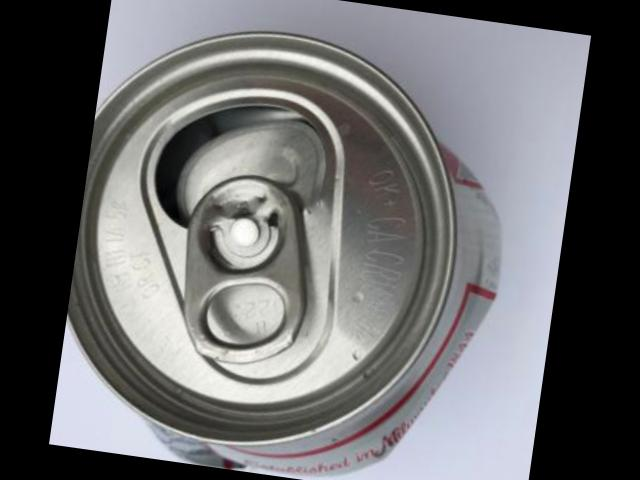metal: (67, 34, 498, 476)
